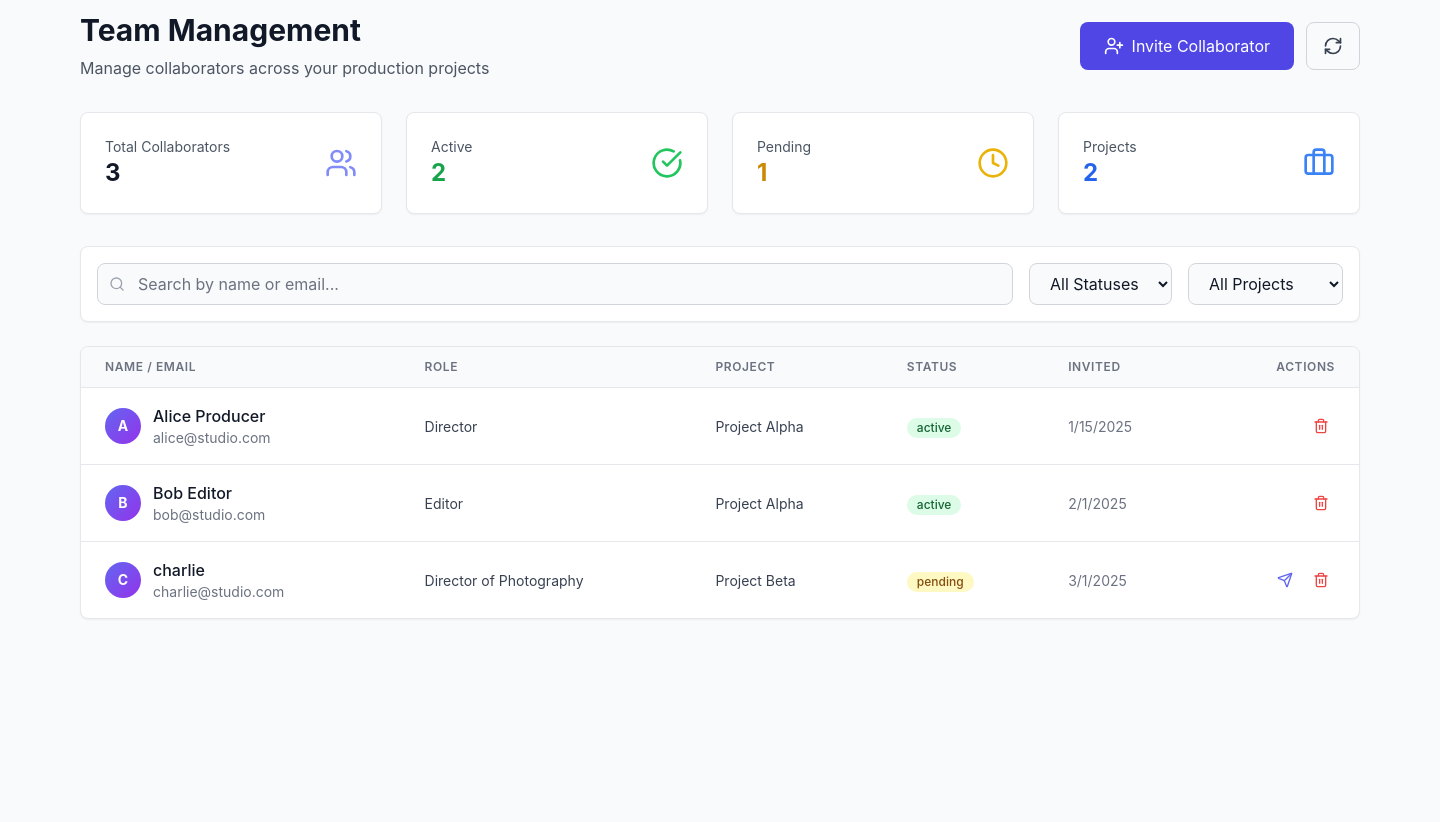
it: TeamManagement › Search filter › filters collaborators by email
Step 1. Type "bob@" into the field with placeholder "Search by name or email..." → (555,284), box [97,263,1013,305]
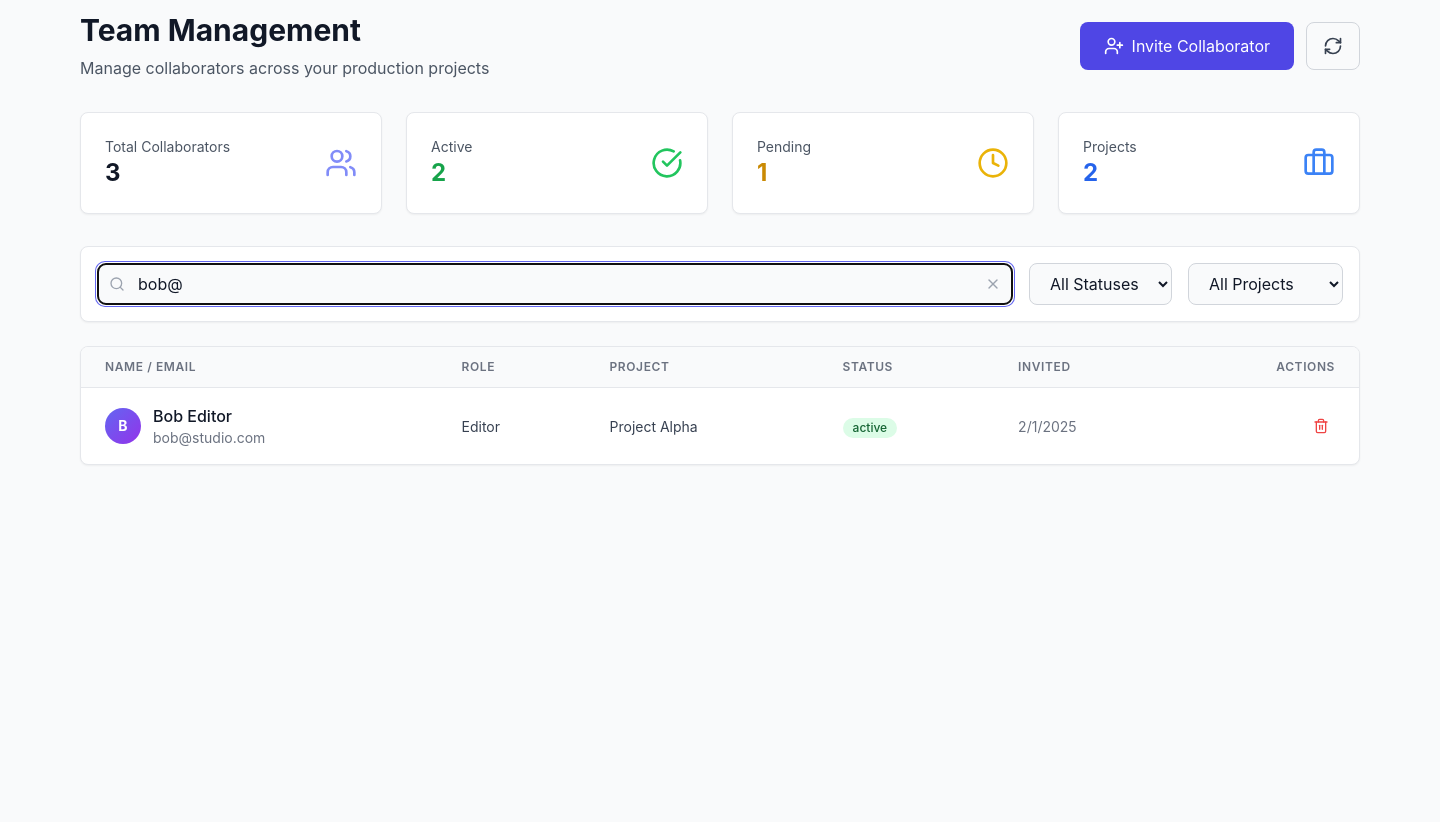
Expected: the text "Bob Editor" is shown, [153,406,232,426]
Expected: the text "Alice Producer" is gone
